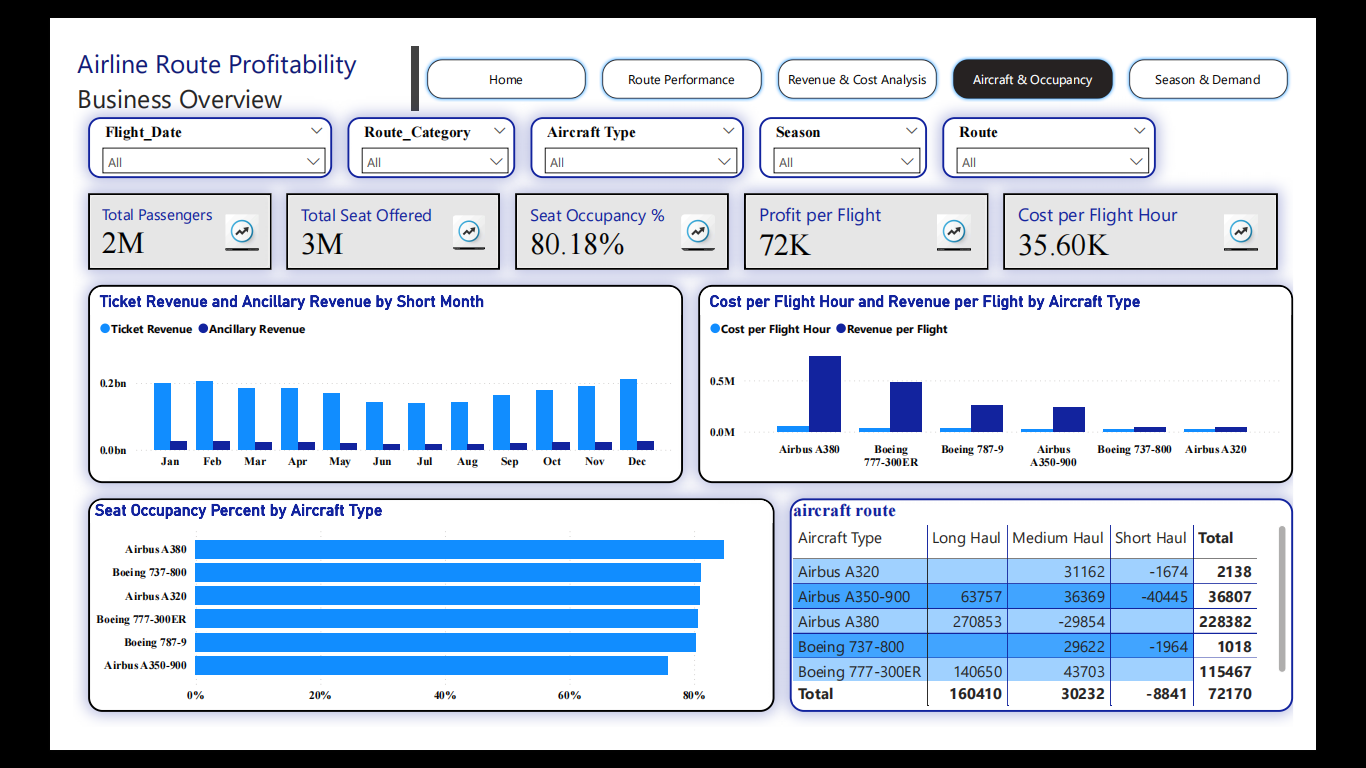

Layout of this report page (visuals, bound fields, positions):
{"tool":"powerbi","page":{"name":"Aircraft & Occupancy","canvas":[1280,720],"ordinal":3},"visuals":[{"type":"textbox","box":[0,0,368,80],"z":0},{"type":"slicer","fields":{"Values":["airline_route_profitability.Flight_Date"]},"box":[16,80,256,64],"z":6000},{"type":"slicer","fields":{"Values":["airline_route_profitability.Route_Category"]},"box":[288,80,176,64],"z":7000},{"type":"slicer","fields":{"Values":["airline_route_profitability.Aircraft_Type"]},"box":[480,80,224,64],"z":8000},{"type":"cardVisual","fields":{"Data":["airline_route_profitability.Total Passengers"]},"box":[16,160,192,80],"z":9000},{"type":"cardVisual","fields":{"Data":["FlightCosts.Total Seats Offered"]},"box":[224,160,224,80],"z":10000},{"type":"cardVisual","fields":{"Data":["airline_route_profitability.Seat Occupancy Percent"]},"box":[464,160,224,80],"z":11000},{"type":"cardVisual","fields":{"Data":["airline_route_profitability.Profit per Flight"]},"box":[704,160,256,80],"z":12000},{"type":"cardVisual","fields":{"Data":["airline_route_profitability.Cost per Flight Hour"]},"box":[976,160,288,80],"z":13000},{"type":"lineClusteredColumnComboChart","fields":{"Category":["airline_route_profitability.Shortt Month"],"Y":["Sum(airline_route_profitability.Ticket_Revenue)","Sum(airline_route_profitability.Ancillary_Revenue)"]},"box":[16,256,624,208],"z":14000},{"type":"clusteredBarChart","title":"Seat Occupancy Percent by Aircraft Type","fields":{"Y":["airline_route_profitability.Seat Occupancy Percent"],"Category":["airline_route_profitability.Aircraft_Type"]},"box":[16,480,720,224],"z":15000},{"type":"pivotTable","title":"aircraft route","fields":{"Rows":["airline_route_profitability.Aircraft_Type"],"Columns":["airline_route_profitability.Route_Category"],"Values":["airline_route_profitability.Profit per Flight"]},"box":[752,480,528,224],"z":16000},{"type":"lineClusteredColumnComboChart","title":"Cost per Flight Hour and Revenue per Flight by Aircraft Type","fields":{"Category":["airline_route_profitability.Aircraft_Type"],"Y":["airline_route_profitability.Cost per Flight Hour","airline_route_profitability.Revenue per Flight"]},"box":[656,256,624,208],"z":17000},{"type":"slicer","fields":{"Values":["airline_route_profitability.Season"]},"box":[720,80,176,64],"z":18000},{"type":"slicer","fields":{"Values":["airline_route_profitability.Route"]},"box":[912,80,224,64],"z":19000},{"type":"pageNavigator","box":[368,16,912,48],"z":19001}]}

Visuals, with their boxes in screenshot pixels (x1, y1, x2, y2), scaled from the page's 1280x720 canvas onto the 1366x768 screenshot:
textbox: left=0, top=0, right=393, bottom=85
slicer - airline_route_profitability.Flight_Date: left=17, top=85, right=290, bottom=154
slicer - airline_route_profitability.Route_Category: left=307, top=85, right=495, bottom=154
slicer - airline_route_profitability.Aircraft_Type: left=512, top=85, right=751, bottom=154
cardVisual - airline_route_profitability.Total Passengers: left=17, top=171, right=222, bottom=256
cardVisual - FlightCosts.Total Seats Offered: left=239, top=171, right=478, bottom=256
cardVisual - airline_route_profitability.Seat Occupancy Percent: left=495, top=171, right=734, bottom=256
cardVisual - airline_route_profitability.Profit per Flight: left=751, top=171, right=1024, bottom=256
cardVisual - airline_route_profitability.Cost per Flight Hour: left=1042, top=171, right=1349, bottom=256
lineClusteredColumnComboChart - airline_route_profitability.Shortt Month x Sum(airline_route_profitability.Ticket_Revenue): left=17, top=273, right=683, bottom=495
"Seat Occupancy Percent by Aircraft Type" clusteredBarChart: left=17, top=512, right=785, bottom=751
"aircraft route" pivotTable: left=803, top=512, right=1365, bottom=751
"Cost per Flight Hour and Revenue per Flight by Aircraft Type" lineClusteredColumnComboChart: left=700, top=273, right=1365, bottom=495
slicer - airline_route_profitability.Season: left=768, top=85, right=956, bottom=154
slicer - airline_route_profitability.Route: left=973, top=85, right=1212, bottom=154
pageNavigator: left=393, top=17, right=1365, bottom=68
